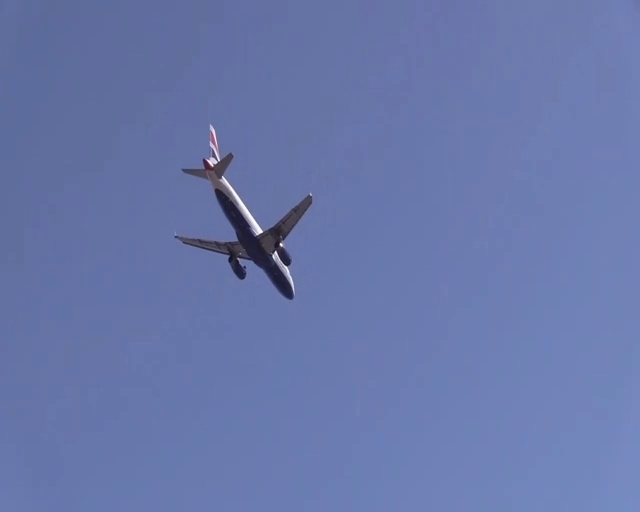AIRPLANE: (174, 119, 313, 301)
